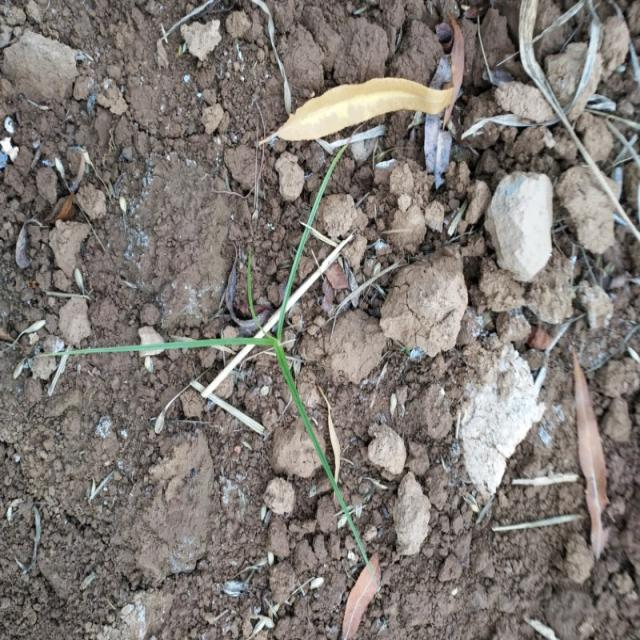sedge: (79, 211, 390, 558)
